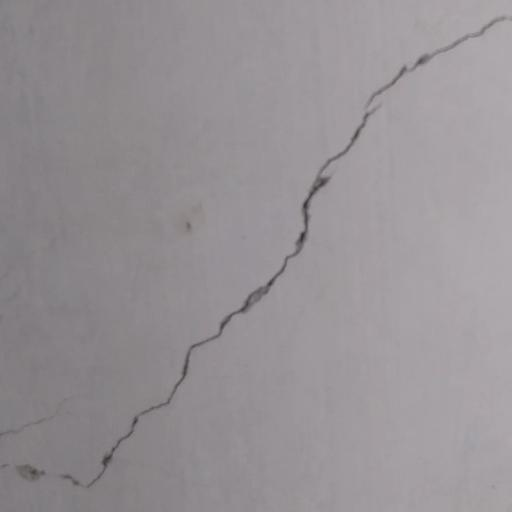major_crack: (18, 0, 512, 486)
